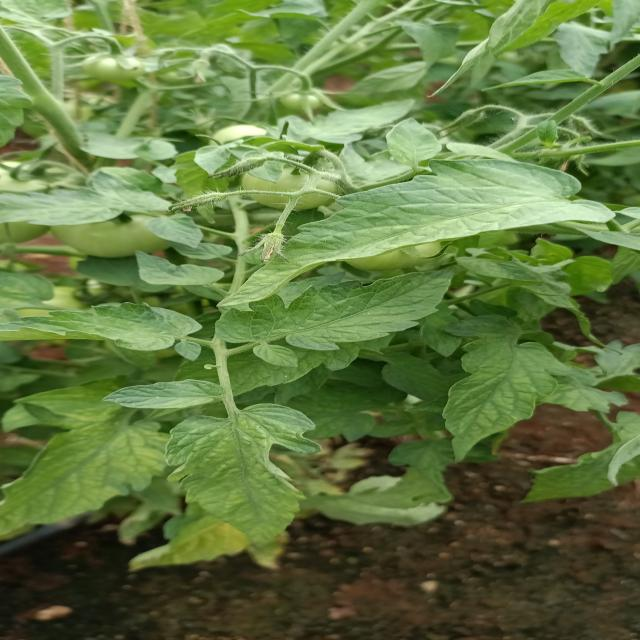Healthy Leaf: (211, 150, 640, 325), (209, 262, 459, 368), (168, 405, 332, 562), (430, 336, 568, 468), (5, 298, 202, 356), (90, 380, 238, 411)
